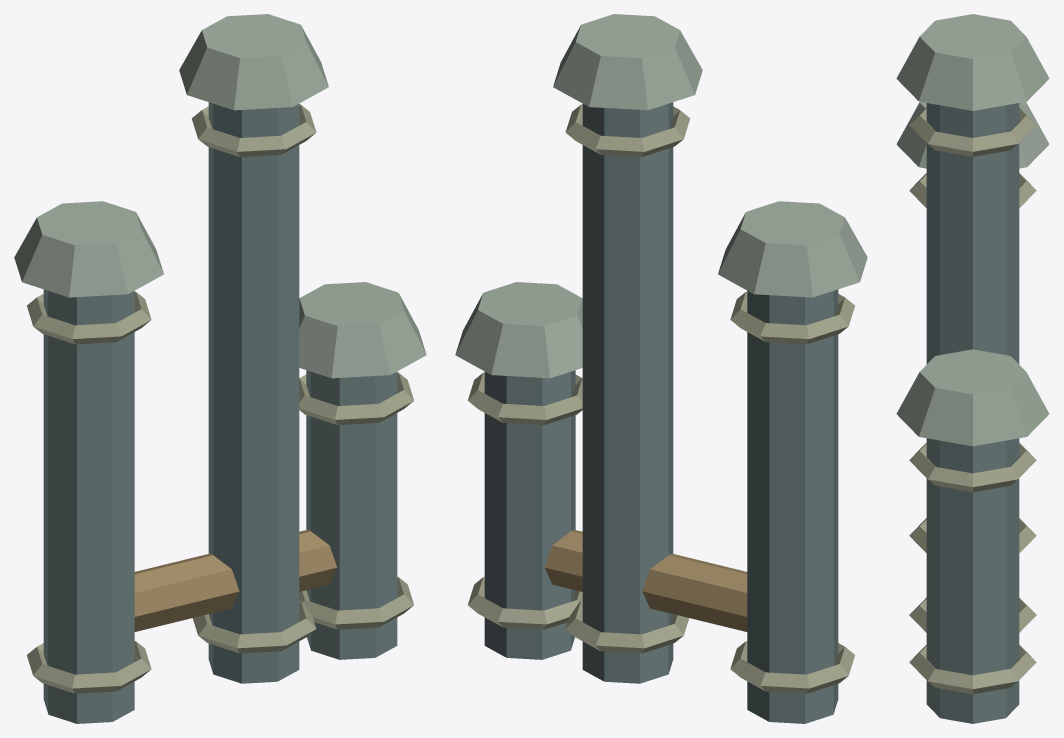
The model's file is map-exclusive-v3__iron_03.glb.
3 renders of one model, left to right at view 1: azimuth 30°, elevation 25°; view 2: azimuth 150°, elevation 25°; view 3: azimuth 270°, elevation 25°, orthographic.
Visible parts, largest first — view 1: iron_03; view 2: iron_03; view 3: iron_03.
Part boxes in pixels (<box>): iron_03: <box>14,14,426,723</box>; iron_03: <box>455,14,867,723</box>; iron_03: <box>896,14,1049,723</box>.
Size of the model in its own units: 1.95 by 2.95 by 0.6599.
